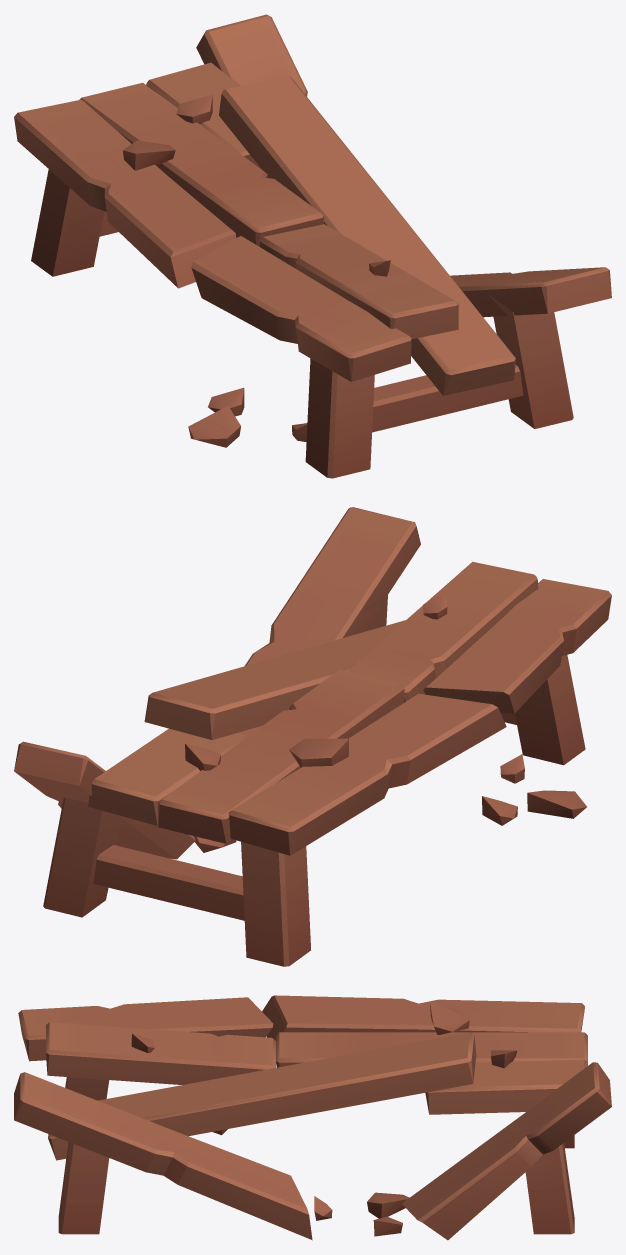
The model's file is table_long_broken.glb.
3 views of the same model, one above another, from view 1: azimuth 30°, elevation 25°; view 2: azimuth 150°, elevation 25°; view 3: azimuth 270°, elevation 25° (orthographic). The views are drawn at different scales.
Parts seen in each view (by area): view 1: table_long_broken; view 2: table_long_broken; view 3: table_long_broken.
Part boxes in pixels (x1=…): table_long_broken: x1=14, y1=14, x2=611, y2=478; table_long_broken: x1=14, y1=507, x2=611, y2=966; table_long_broken: x1=14, y1=995, x2=611, y2=1240.
Size of the model in its own units: 2.41 by 1.27 by 4.4.
1 material, 1 textured.
